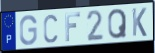2: (86, 9, 105, 43)
C: (43, 13, 58, 45)
F: (64, 12, 82, 43)
G: (18, 14, 38, 46)
K: (131, 7, 148, 38)
Q: (107, 8, 128, 40)
